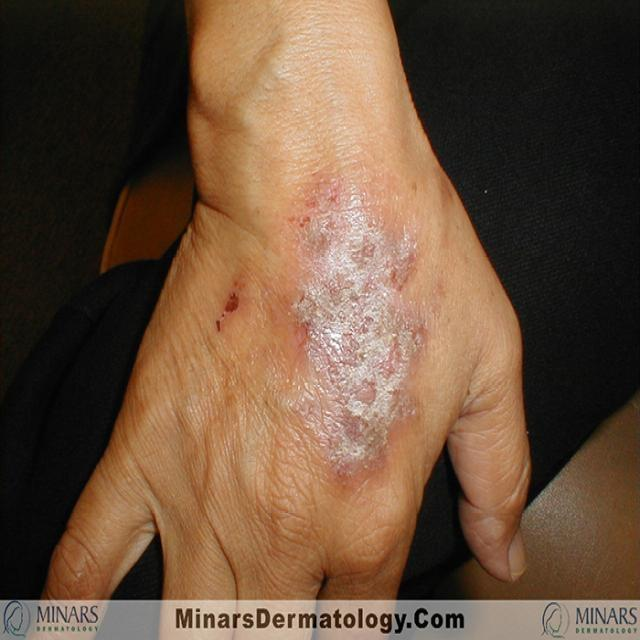Eczema: (213, 161, 444, 477)
